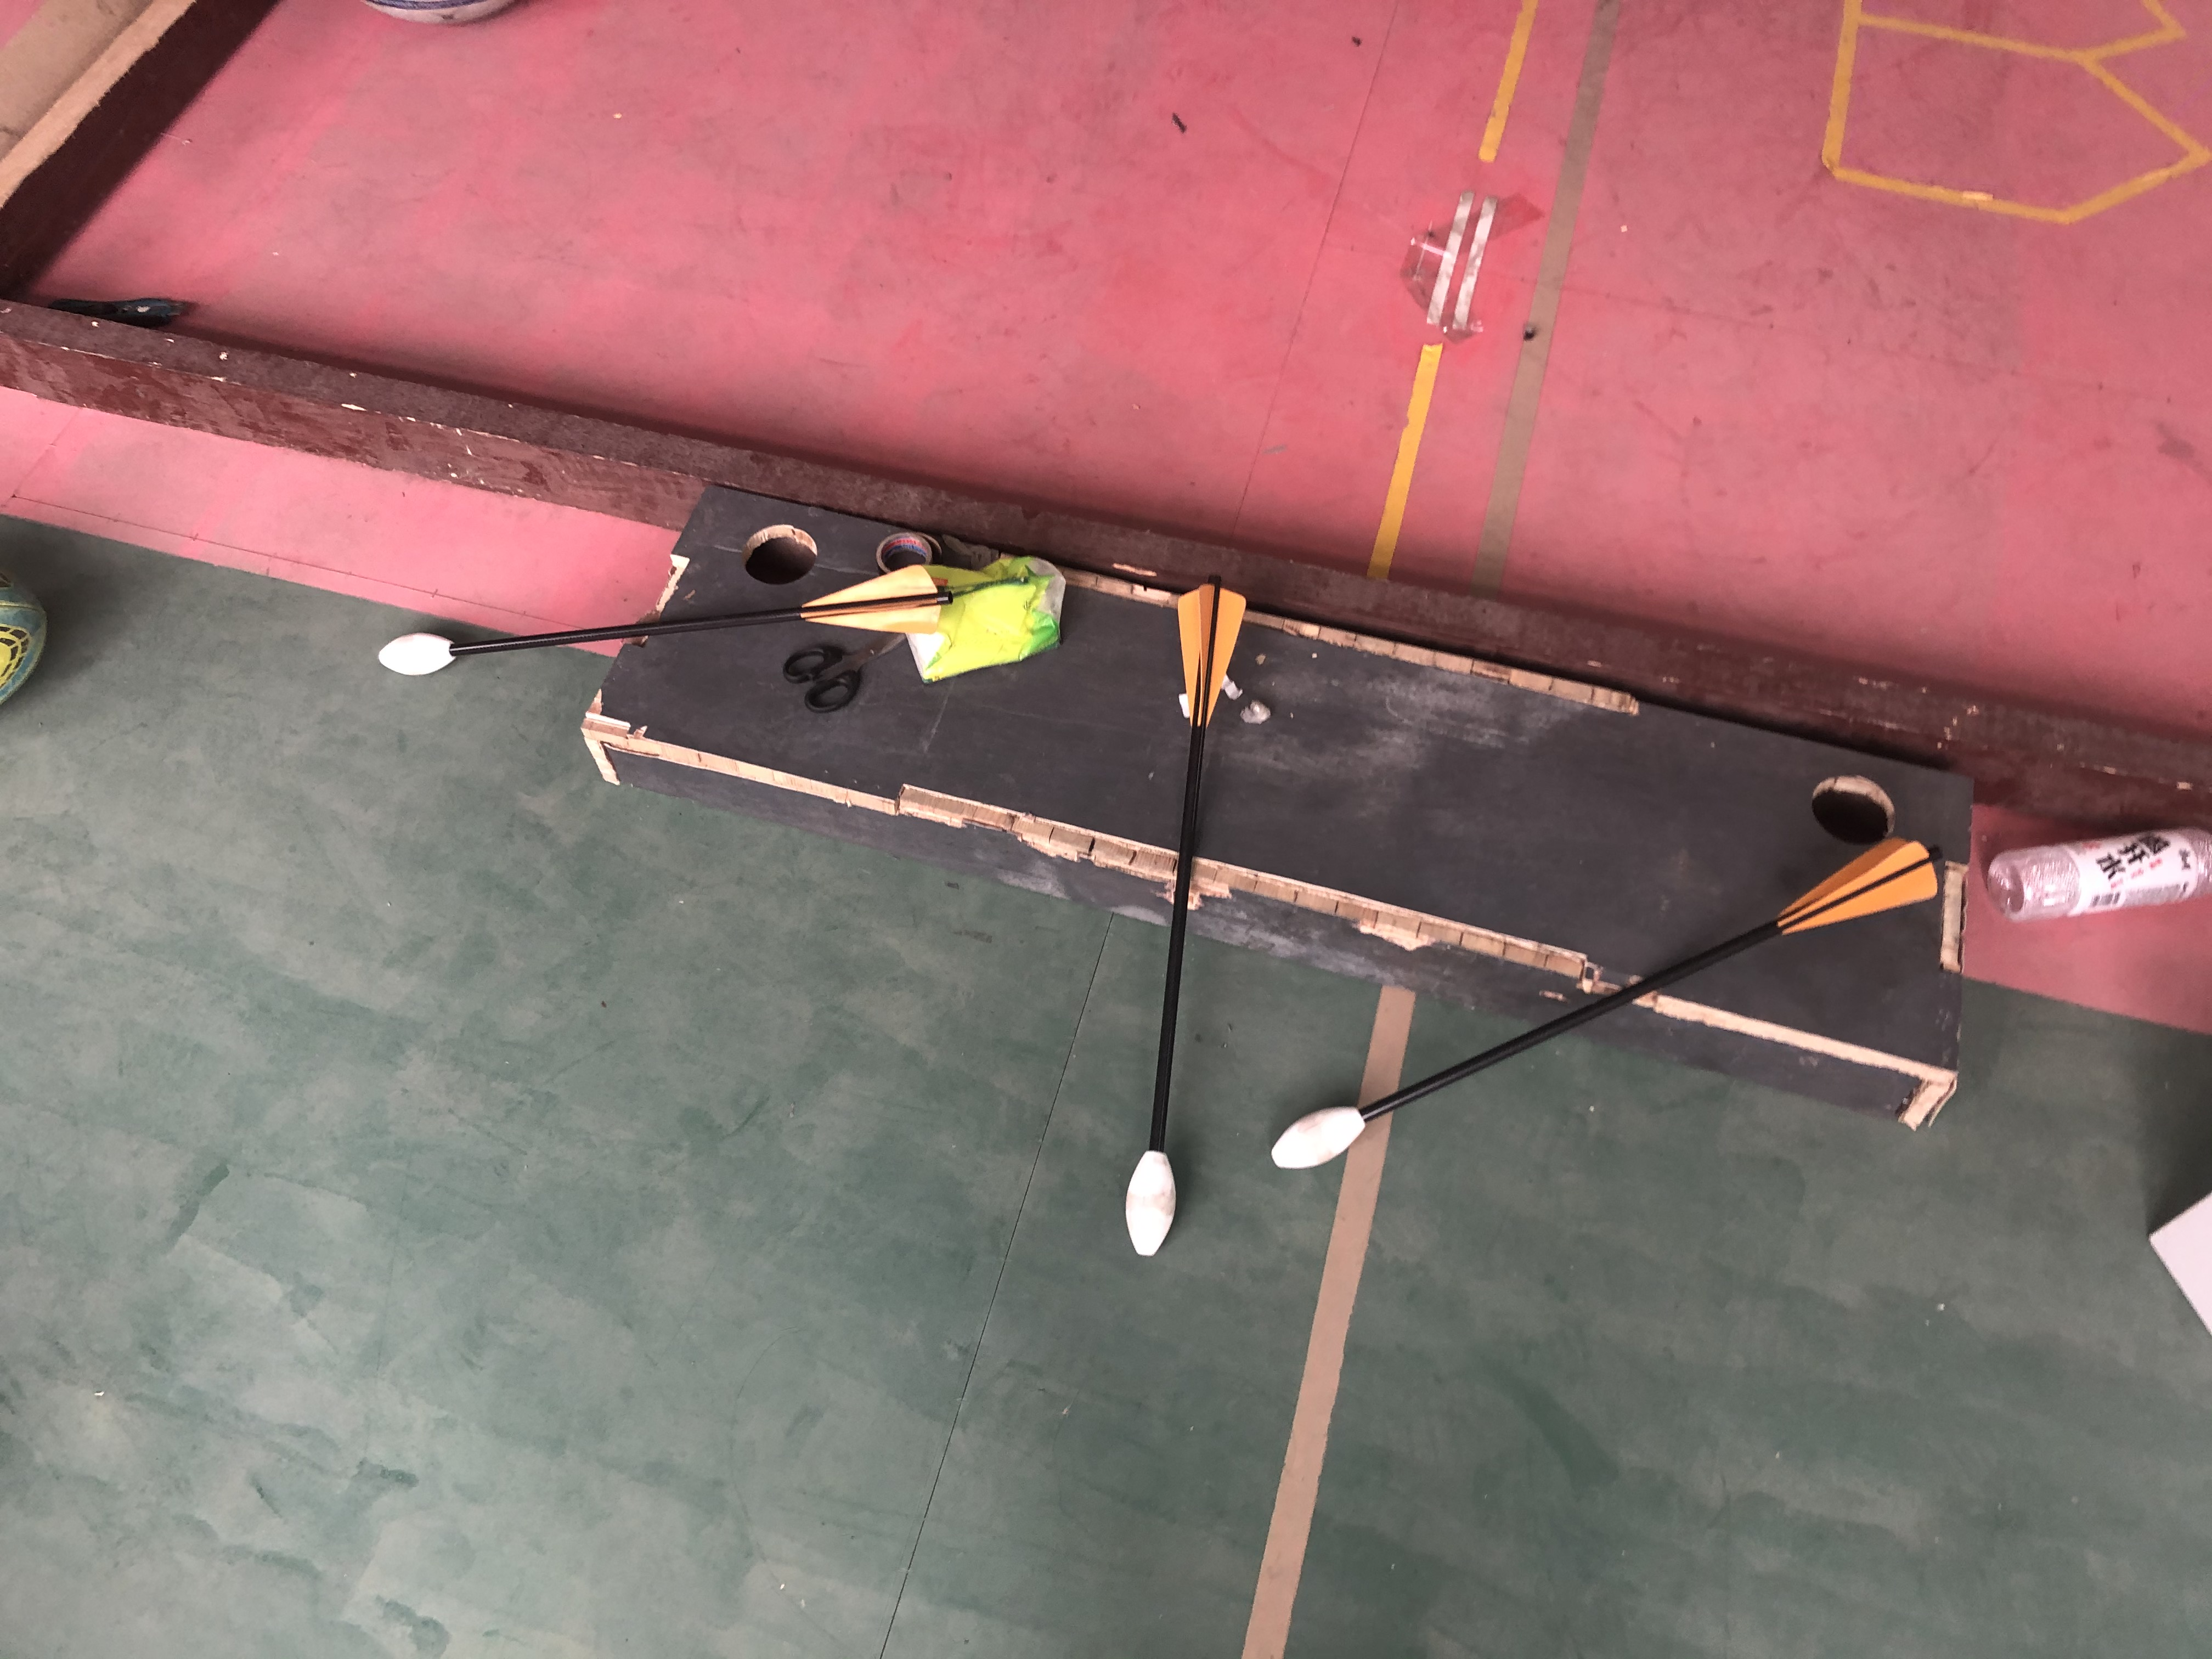arrow: (1268, 833, 1940, 1169), (1116, 570, 1251, 1267), (371, 558, 953, 676)
arrowFront: (1271, 1100, 1364, 1168), (1125, 1145, 1176, 1256), (374, 631, 462, 674)
